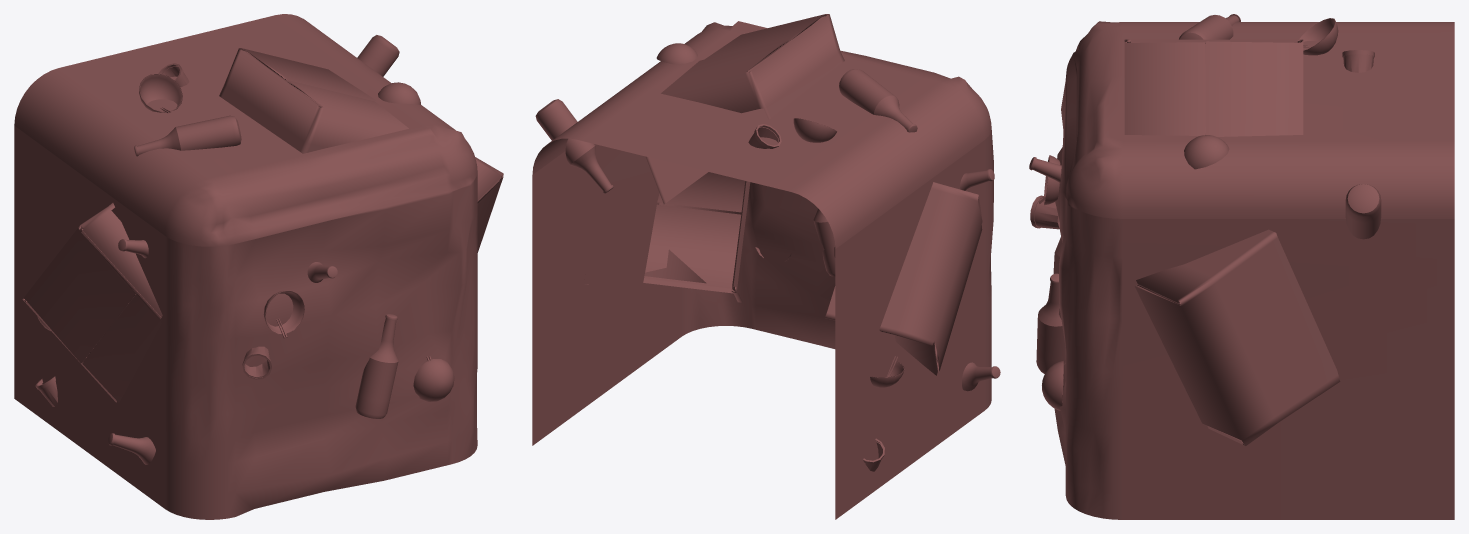
Rendered from breakableJunk.fbx.
The picture shows the model from 3 angles, left to right: view 1: azimuth 30°, elevation 25°; view 2: azimuth 150°, elevation 25°; view 3: azimuth 270°, elevation 25°; orthographic projection. The views are drawn at different scales.
Visible parts, largest first — view 1: breakableJunk; view 2: breakableJunk; view 3: breakableJunk.
Boxes of the visible parts, left/top/right/bottom form: breakableJunk: left=14, top=14, right=503, bottom=519; breakableJunk: left=532, top=14, right=1000, bottom=519; breakableJunk: left=1029, top=14, right=1454, bottom=519.
Bounding box in the file's own units: 87.72 × 74.24 × 71.5.
